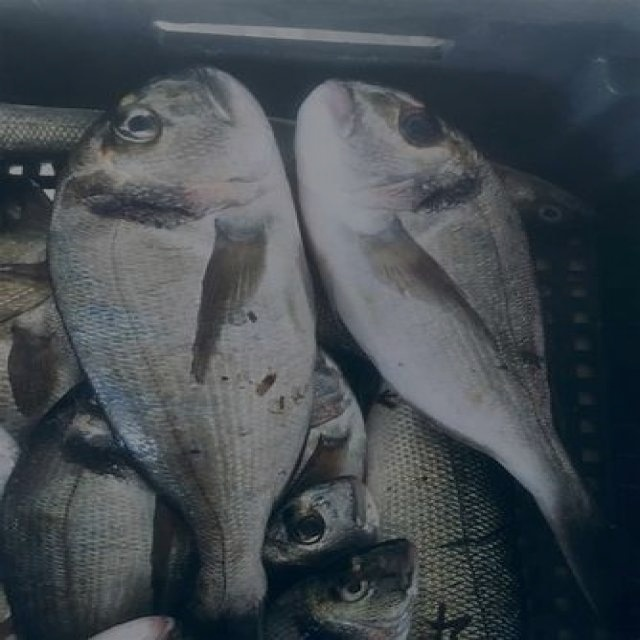Healthy Fish: (289, 70, 640, 640), (0, 59, 307, 640)
